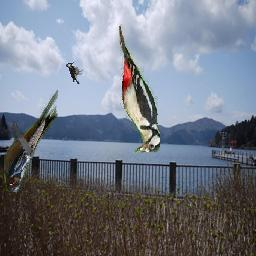Swallow: (4, 90, 58, 192)
Woodpecker: (120, 23, 161, 153), (65, 62, 83, 85)
